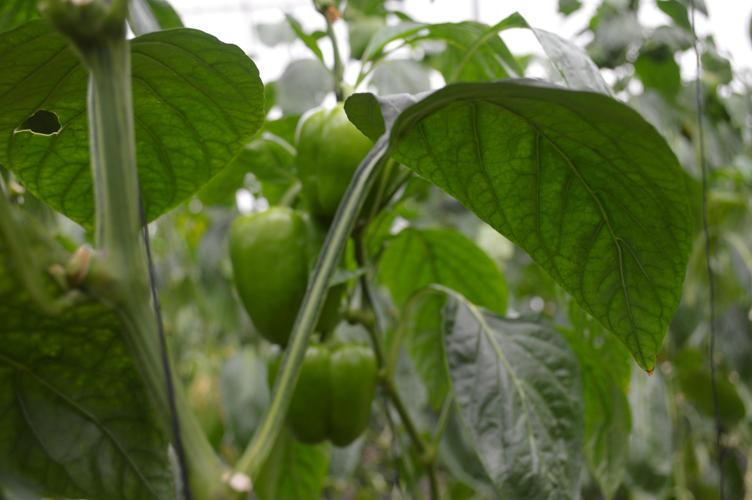BellPepper: (218, 214, 334, 344), (298, 96, 397, 233), (258, 339, 379, 449)
